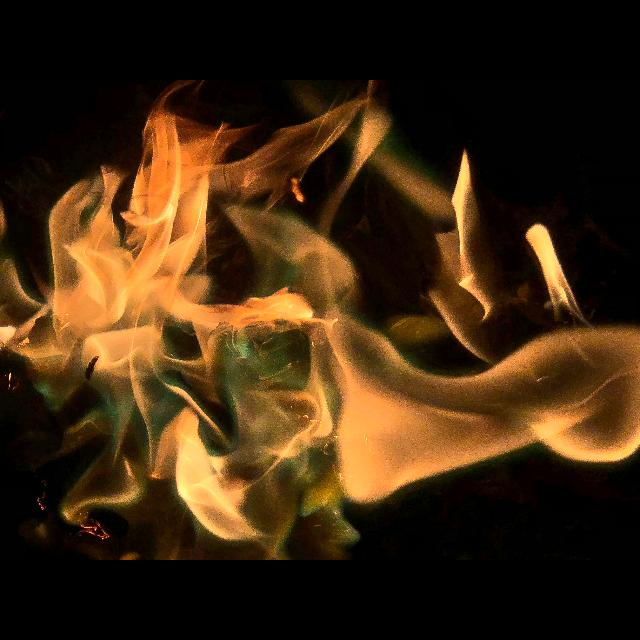fire: (0, 80, 492, 560)
